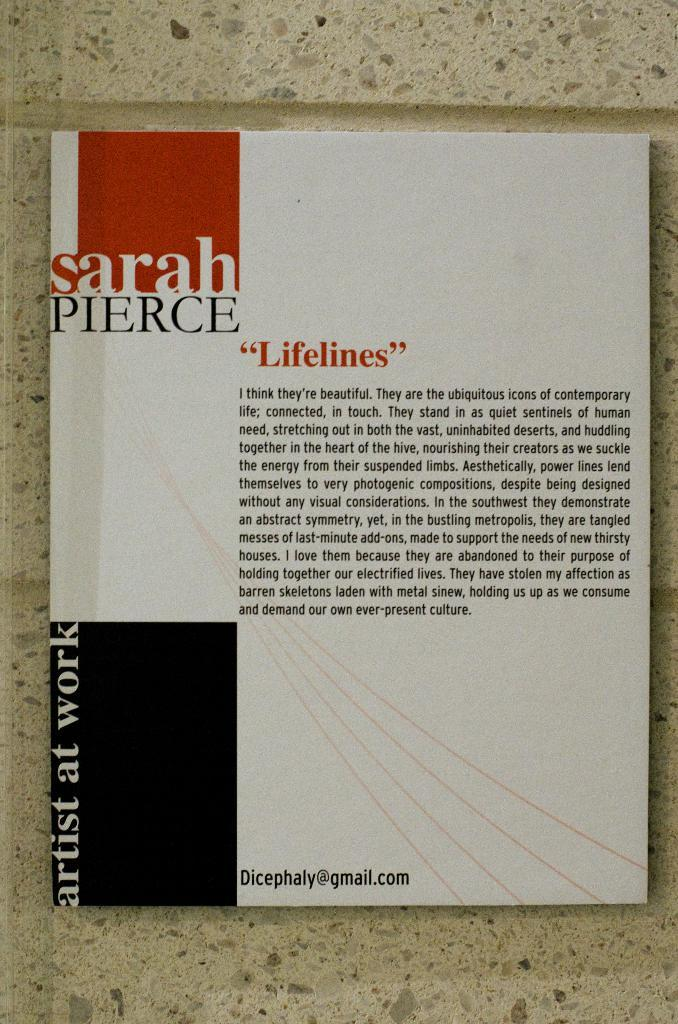book: (41, 127, 646, 917)
